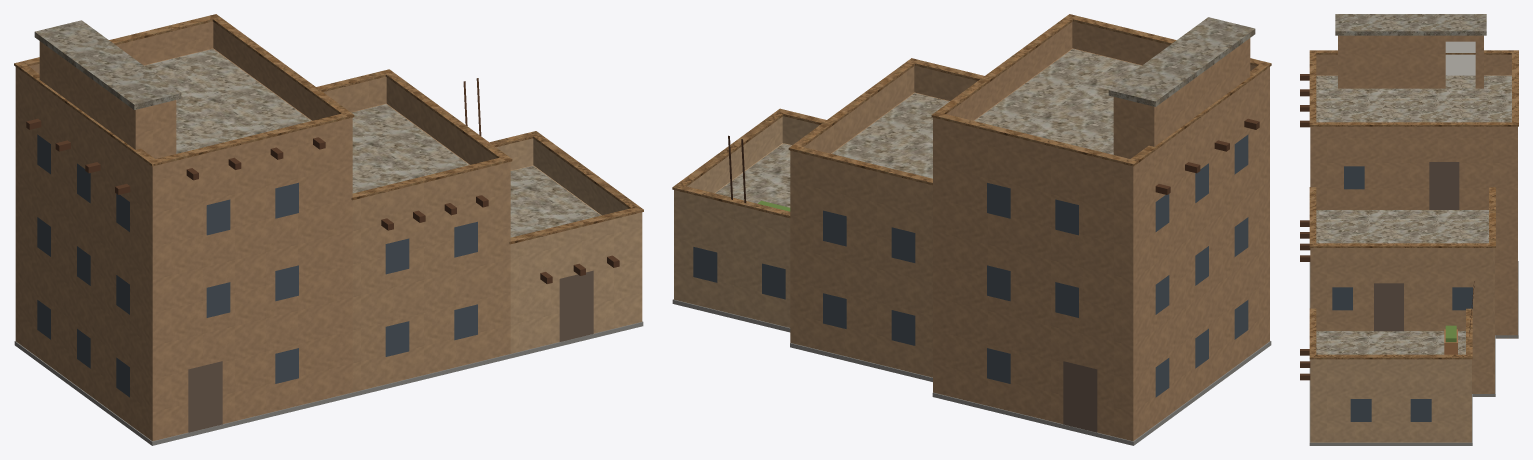
The model's file is cr-pueblo-terraces.towns-v1.lod1.glb.
3 renders of one model, left to right at view 1: azimuth 30°, elevation 25°; view 2: azimuth 150°, elevation 25°; view 3: azimuth 270°, elevation 25°, orthographic. The views are drawn at different scales.
Visible parts, largest first — view 1: cr-pueblo-terraces; view 2: cr-pueblo-terraces; view 3: cr-pueblo-terraces.
Boxes of the visible parts, <box> form: cr-pueblo-terraces: <box>14,14,643,445</box>; cr-pueblo-terraces: <box>672,14,1271,445</box>; cr-pueblo-terraces: <box>1300,14,1518,445</box>.
Size of the model in its own units: 19.09 by 11.95 by 9.49.
3 materials, 2 textured.
